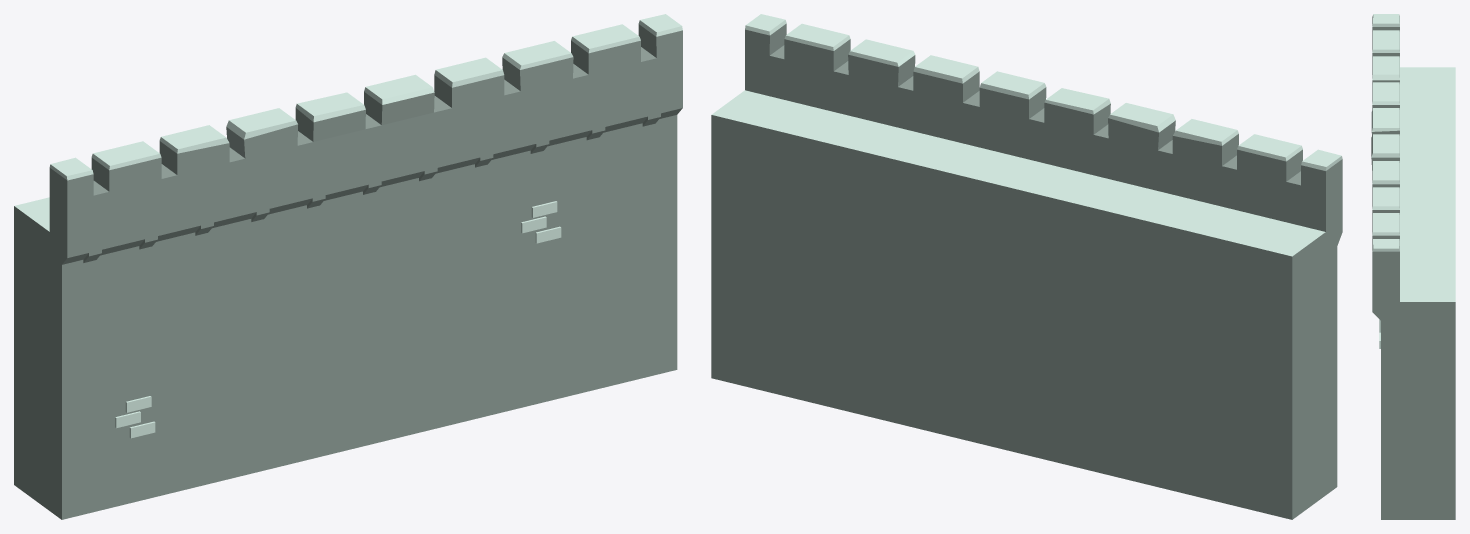
File: castle_wall_01.fbx
The picture shows the model from 3 angles, left to right: view 1: azimuth 30°, elevation 25°; view 2: azimuth 150°, elevation 25°; view 3: azimuth 270°, elevation 25°; orthographic projection. The views are drawn at different scales.
Visible parts, largest first — view 1: castle_wall_01; view 2: castle_wall_01; view 3: castle_wall_01.
Boxes of the visible parts, x1,y1,x2,y2 form: castle_wall_01: (14,14,682,519); castle_wall_01: (711,14,1342,519); castle_wall_01: (1371,14,1455,519).
Bounding box in the file's own units: 1500 × 809 × 228.
